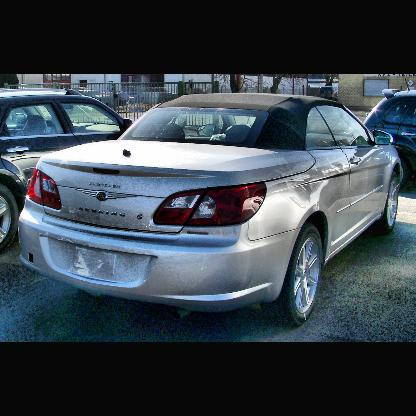Chrysler Sebring Convertible 2010: (18, 92, 404, 329)
